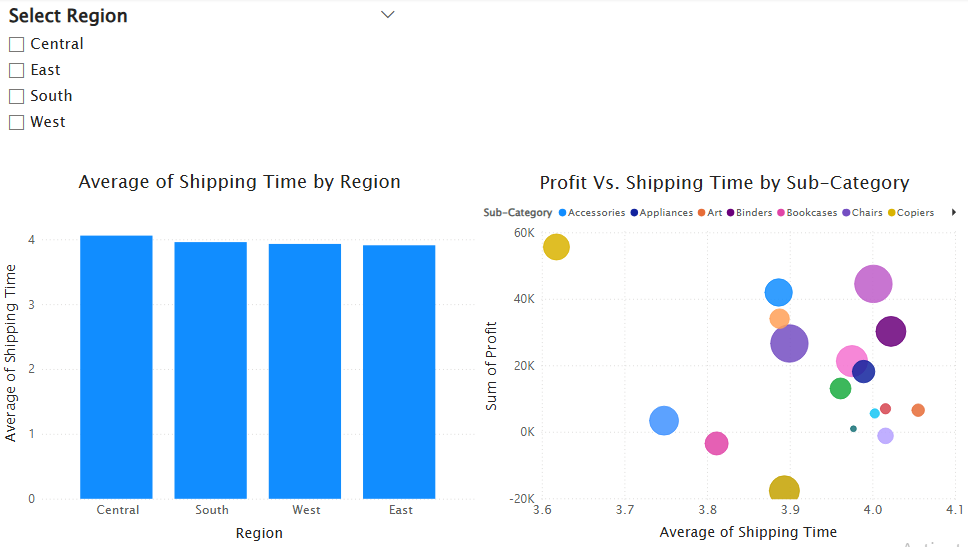

Layout of this report page (visuals, bound fields, positions):
{"tool":"powerbi","page":{"name":"Shipping Analysis","canvas":[1280,720],"ordinal":3},"visuals":[{"type":"clusteredColumnChart","fields":{"Category":["updated_superstore.Region"],"Y":["Avg(updated_superstore.Shipping Time)"]},"box":[10.1,222.8,629.9,497.2],"z":0},{"type":"scatterChart","title":"Profit Vs. Shipping Time by Sub-Category","fields":{"X":["Avg(updated_superstore.Shipping Time)"],"Y":["Sum(updated_superstore.Profit)"],"Series":["updated_superstore.Sub-Category"],"Size":["Sum(updated_superstore.Sales)"]},"box":[640,224.5,640,495.5],"z":1000},{"type":"slicer","fields":{"Values":["updated_superstore.Region"]},"box":[10.1,0,530.8,223.4],"z":2000}]}

Visuals, with their boxes in screenshot pixels (x1, y1, x2, y2), scaled from the page's 1280x720 canvas onto the 968x547 screenshot:
clusteredColumnChart - updated_superstore.Region x Avg(updated_superstore.Shipping Time): locate(8, 169, 484, 546)
"Profit Vs. Shipping Time by Sub-Category" scatterChart: locate(484, 171, 967, 546)
slicer - updated_superstore.Region: locate(8, 0, 409, 170)
